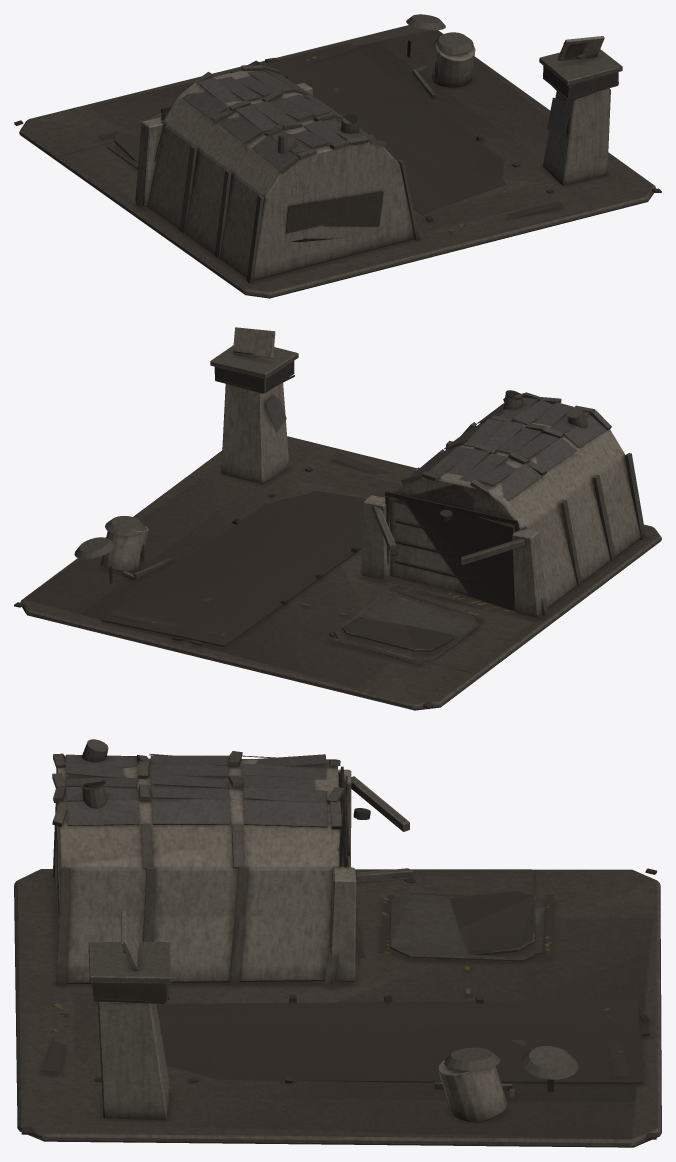
Rendered from ord_airfield_wreck.fbx.
3 renders of one model, top to bottom at view 1: azimuth 30°, elevation 25°; view 2: azimuth 150°, elevation 25°; view 3: azimuth 270°, elevation 25°, orthographic. The views are drawn at different scales.
Visible parts, largest first — view 1: base_bar, radar_bar; view 2: base_bar, radar_bar; view 3: base_bar, radar_bar.
Boxes of the visible parts, <box> form: base_bar: <box>14,14,661,298</box>; radar_bar: <box>557,36,604,60</box>; base_bar: <box>14,345,661,710</box>; radar_bar: <box>233,327,275,358</box>; base_bar: <box>14,739,661,1147</box>; radar_bar: <box>120,910,138,970</box>.
Bounding box in the file's own units: 3943 × 1505 × 3946.
2 materials, 2 textured.
